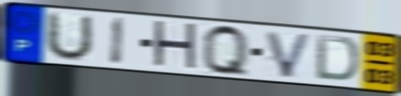D: (313, 33, 361, 84)
H: (151, 19, 200, 74)
I: (109, 15, 128, 67)
Q: (200, 22, 252, 80)
U: (43, 10, 95, 63)
V: (263, 29, 316, 80)
